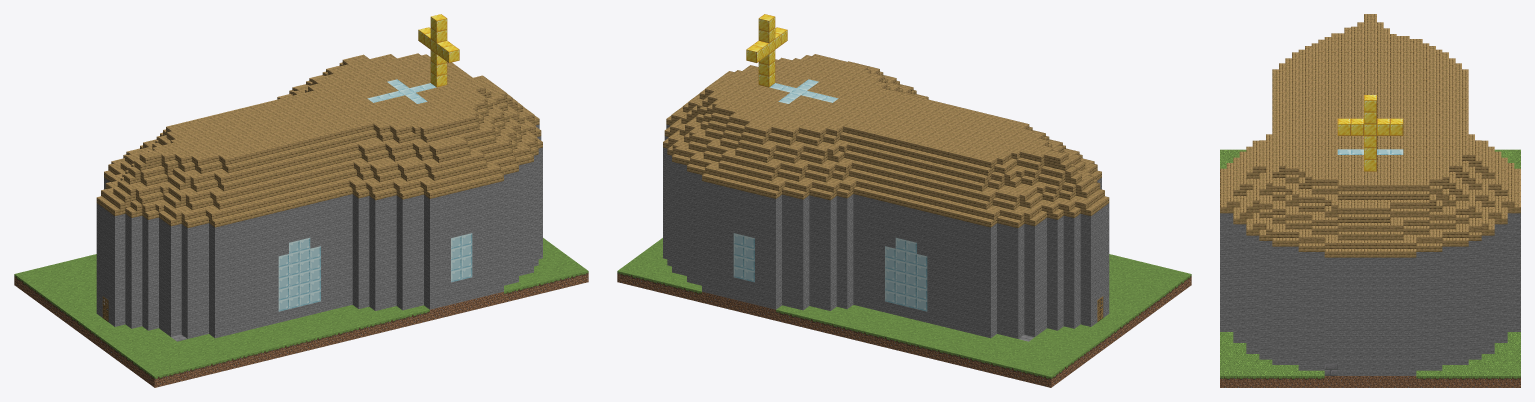
The model's file is church.obj.
3 renders of one model, left to right at view 1: azimuth 30°, elevation 25°; view 2: azimuth 150°, elevation 25°; view 3: azimuth 270°, elevation 25°, orthographic. The views are drawn at different scales.
Visible parts, largest first — view 1: Stone, Oak_Stairs, Grass_Block, Oak_Planks, Glass, Block_of_Gold, Dirt; view 2: Stone, Oak_Stairs, Grass_Block, Oak_Planks, Glass, Block_of_Gold, Dirt; view 3: Stone, Oak_Stairs, Oak_Planks, Grass_Block, Block_of_Gold, Dirt, Glass.
Part boxes in pixels (x1=…): Stone: x1=96, y1=124, x2=542, y2=338; Oak_Stairs: x1=96, y1=53, x2=542, y2=227; Grass_Block: x1=14, y1=238, x2=588, y2=387; Oak_Planks: x1=107, y1=55, x2=531, y2=217; Glass: x1=278, y1=79, x2=472, y2=311; Block_of_Gold: x1=418, y1=14, x2=459, y2=87; Dirt: x1=430, y1=292, x2=503, y2=320; Stone: x1=663, y1=124, x2=1109, y2=338; Oak_Stairs: x1=663, y1=54, x2=1109, y2=227; Grass_Block: x1=617, y1=238, x2=1191, y2=387; Oak_Planks: x1=673, y1=56, x2=1090, y2=217; Glass: x1=733, y1=79, x2=927, y2=311; Block_of_Gold: x1=746, y1=14, x2=787, y2=87; Dirt: x1=702, y1=292, x2=775, y2=320; Stone: x1=1220, y1=213, x2=1520, y2=375; Oak_Stairs: x1=1220, y1=14, x2=1520, y2=257; Oak_Planks: x1=1233, y1=16, x2=1507, y2=240; Grass_Block: x1=1220, y1=149, x2=1520, y2=387; Block_of_Gold: x1=1337, y1=95, x2=1403, y2=171; Dirt: x1=1324, y1=376, x2=1416, y2=387; Glass: x1=1337, y1=149, x2=1403, y2=154.
Size of the model in its own units: 41 by 21 by 23.
18 materials, 18 textured.
